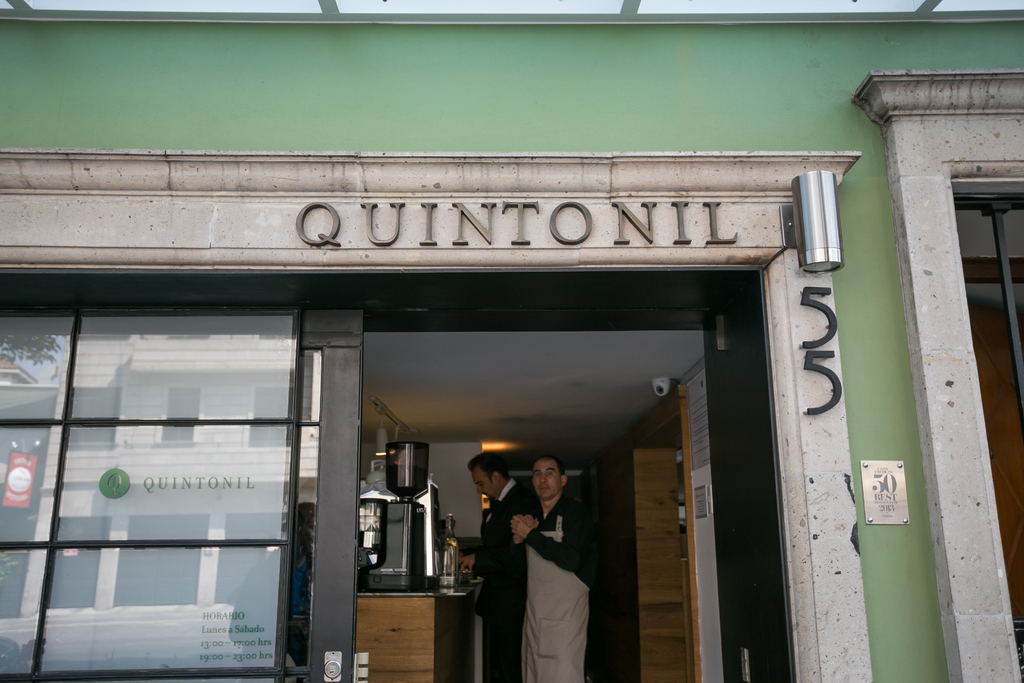door: (306, 320, 354, 659)
handle: (319, 662, 344, 683)
